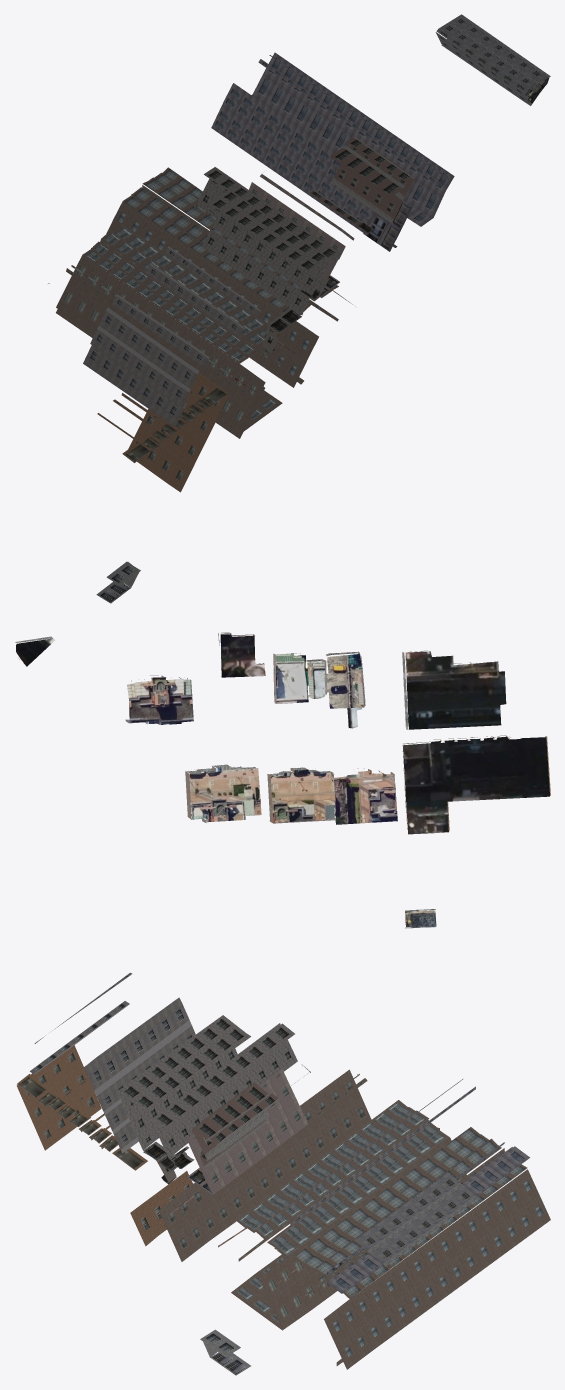
File: tile_LOD4_r2_c8.glb
3 renders of one model, top to bottom at view 1: azimuth 30°, elevation 25°; view 2: azimuth 150°, elevation 25°; view 3: azimuth 270°, elevation 25°, orthographic. The views are drawn at different scales.
Bounding box in the file's own units: 152 × 88.75 × 104.
55 materials, 55 textured.
